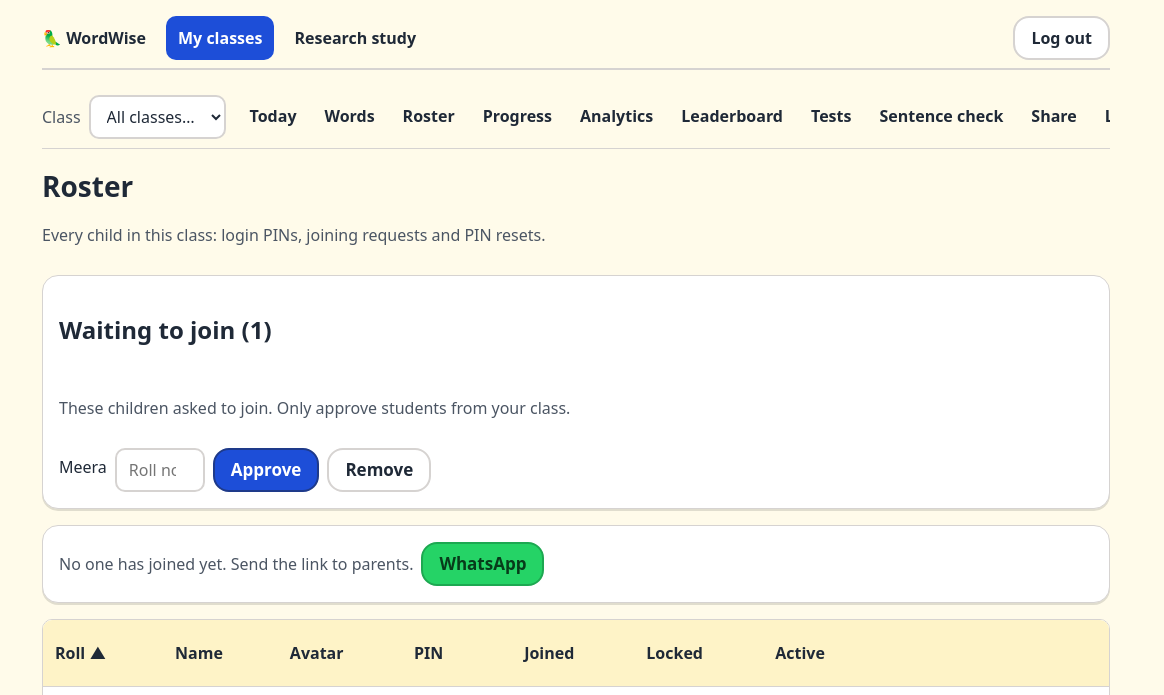
Test case: Roster: Waiting to join › shows the card, approves with a roll number and shows the new PIN
The width and height of the screenshot is (1164, 695).
Expected: the heading "Waiting to join (1)" is shown, 59,313 -> 272,346
Step 1. Type "2" into the number field named "Roll number for Meera" → (160, 470), box 115,448 -> 205,492
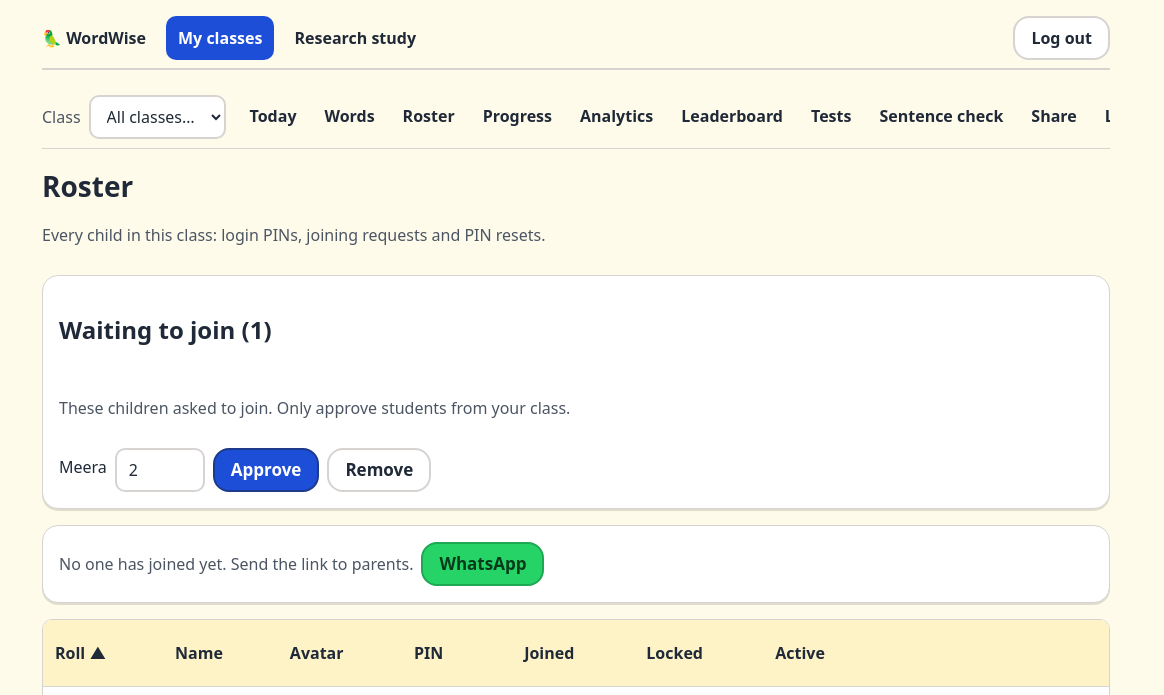
Step 2. Click the button "Approve" → (266, 470), box 213,448 -> 319,492
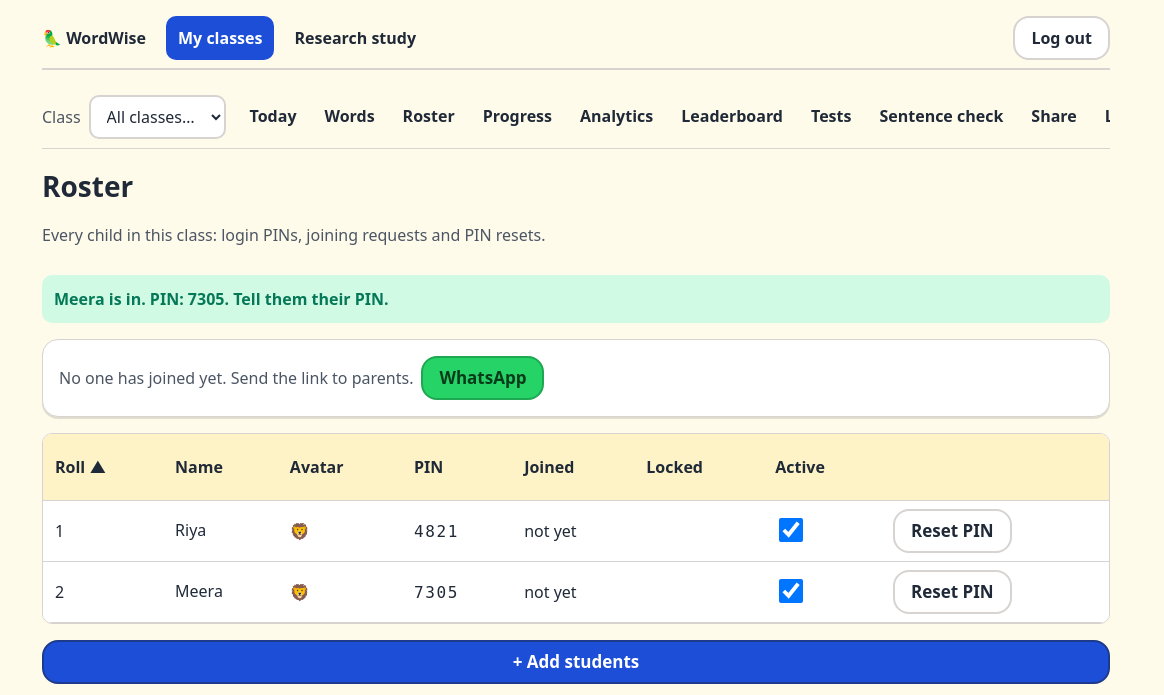
Expected: the text "Meera" is shown, 175,582 -> 223,604
Expected: the text "Meera is in. PIN: 7305. Tell them their PIN." is shown, 42,275 -> 1110,323
Expected: the heading "Waiting to join" is gone
